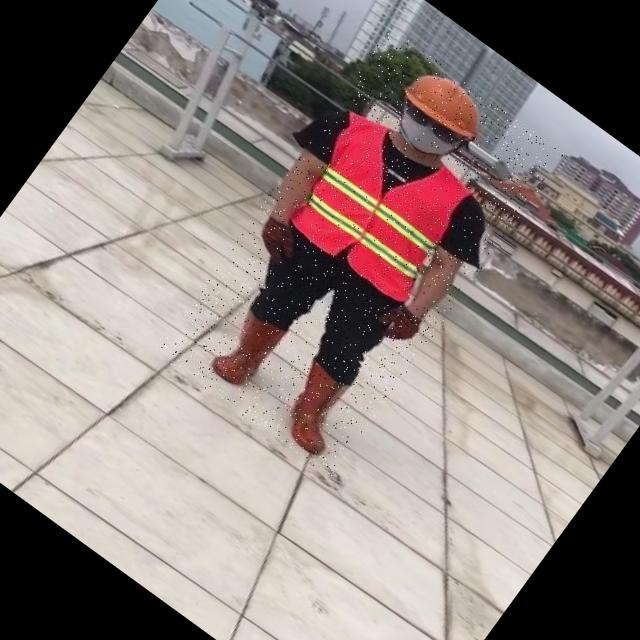hard_hat: (394, 55, 496, 149)
safety_vest: (276, 105, 482, 307)
vehicle: (153, 28, 564, 480)
work_boots: (264, 355, 366, 459), (202, 302, 287, 393)
